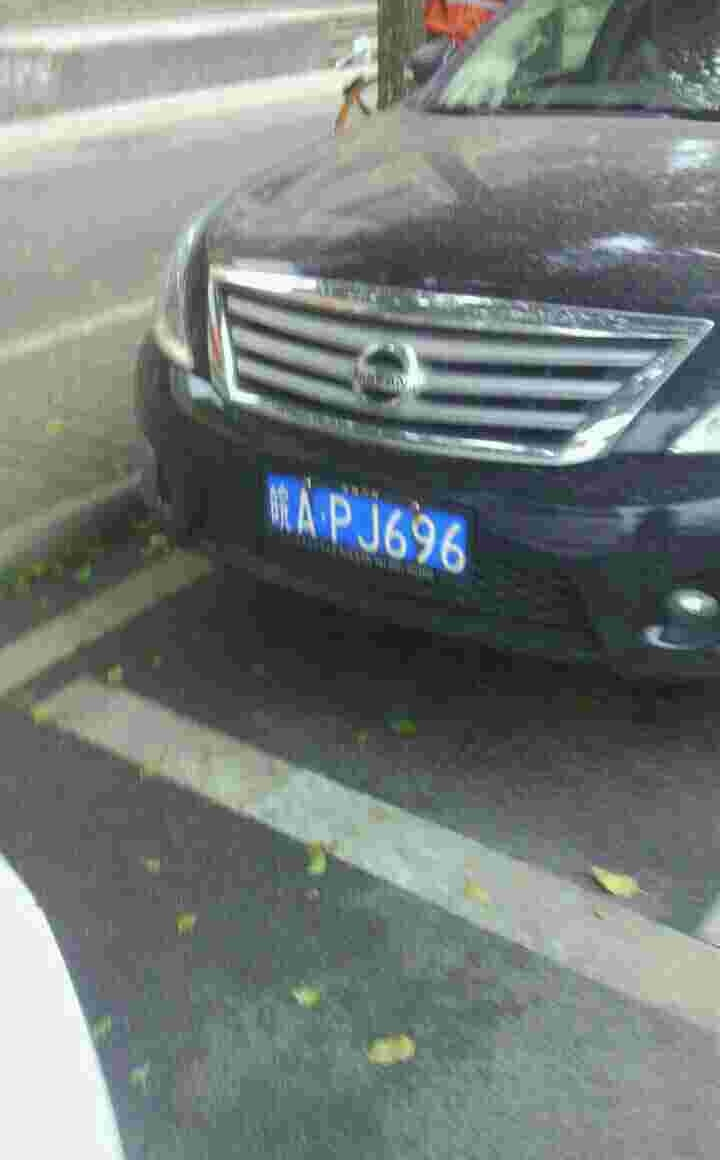license_plate: (256, 469, 477, 567)
